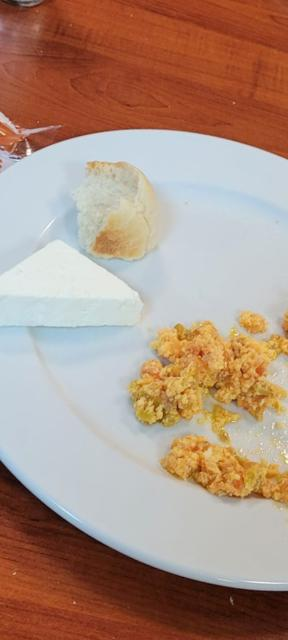Organik: (127, 307, 288, 506), (0, 240, 151, 336), (73, 152, 172, 271)
